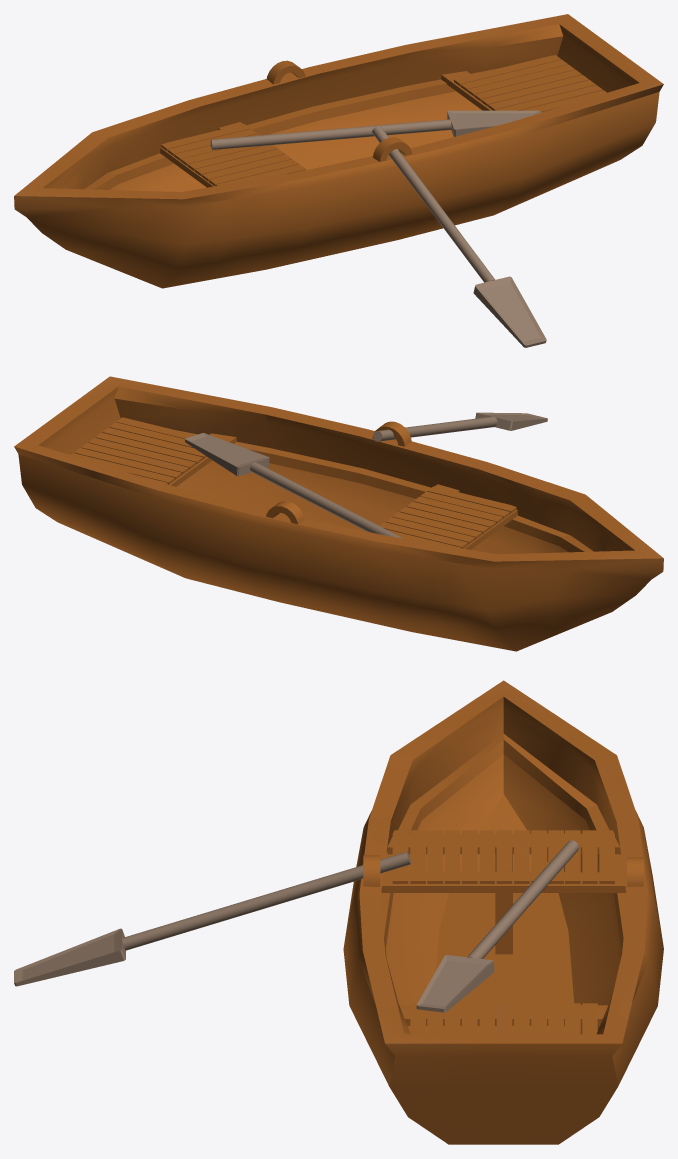
The model's file is Boat.fbx.
3 views of the same model, one above another, from view 1: azimuth 30°, elevation 25°; view 2: azimuth 150°, elevation 25°; view 3: azimuth 270°, elevation 25° (orthographic). The views are drawn at different scales.
Visible parts, largest first — view 1: Boat; view 2: Boat; view 3: Boat.
Part boxes in pixels (x1,y1,x2,y2): Boat: (14,14,663,347); Boat: (14,376,663,651); Boat: (14,680,663,1144).
Size of the model in its own units: 3.67 by 0.7355 by 2.77.
